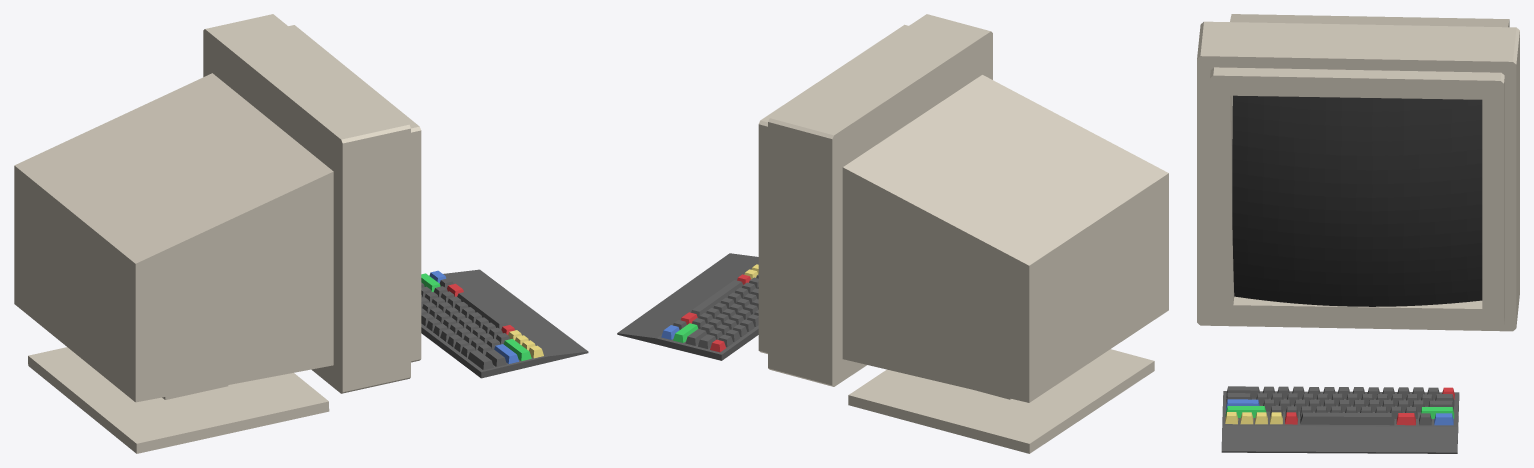
The model's file is monitor.glb.
3 renders of one model, left to right at view 1: azimuth 30°, elevation 25°; view 2: azimuth 150°, elevation 25°; view 3: azimuth 270°, elevation 25°, orthographic. The views are drawn at different scales.
Visible parts, largest first — view 1: MonitorScreen, keyboard; view 2: MonitorScreen, keyboard; view 3: MonitorScreen, keyboard.
Boxes of the visible parts, left/top/right/bottom form: MonitorScreen: left=14, top=14, right=421, bottom=453; keyboard: left=421, top=269, right=588, bottom=378; MonitorScreen: left=758, top=14, right=1168, bottom=453; keyboard: left=617, top=253, right=758, bottom=360; MonitorScreen: left=1197, top=14, right=1519, bottom=331; keyboard: left=1221, top=386, right=1459, bottom=453.
Size of the model in its own units: 0.4481 by 0.2694 by 0.2622.
